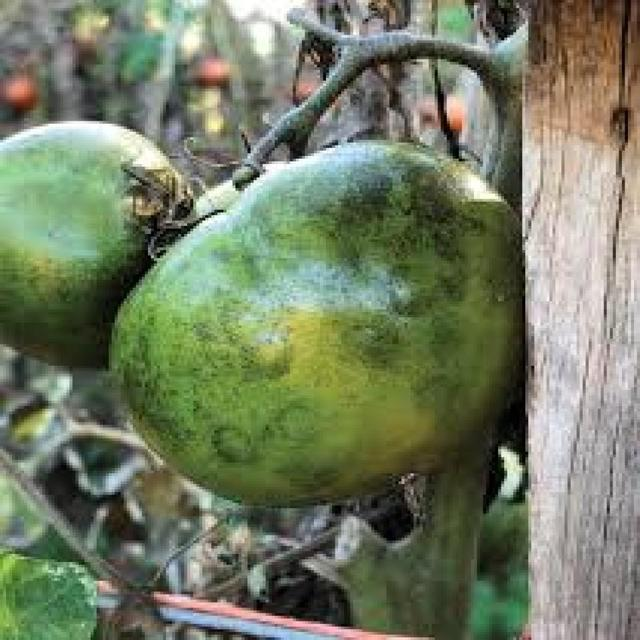Spotted wilt Virus Fruit: (0, 208, 78, 249)
